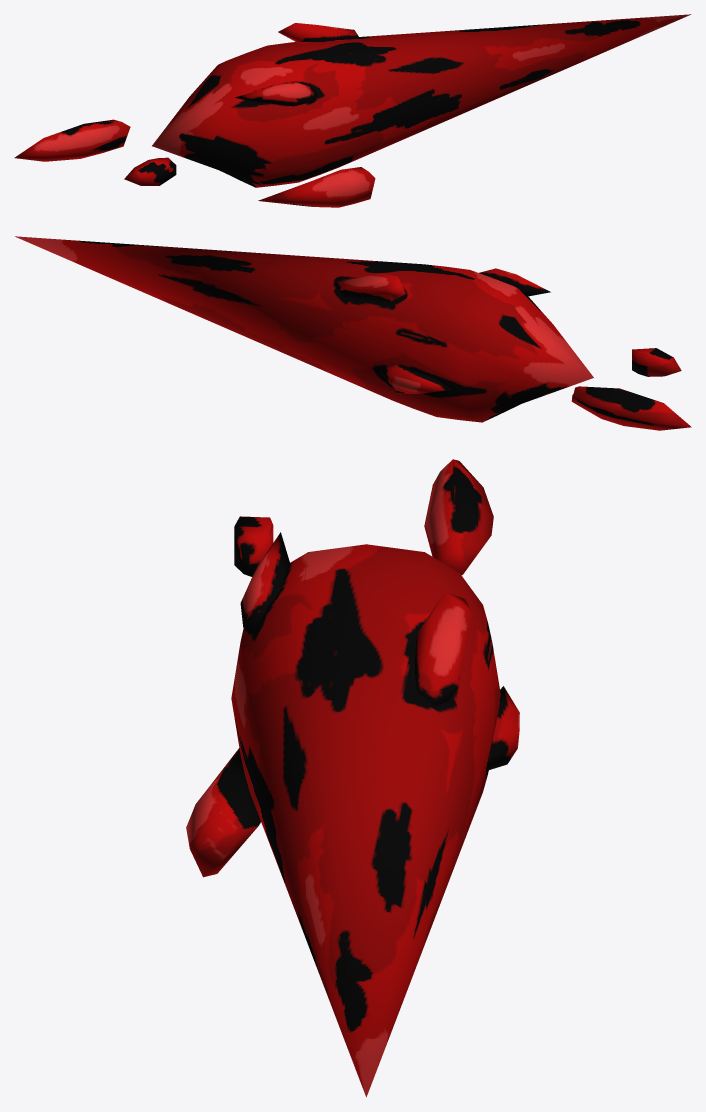
File: BloodSpear.fbx
3 views of the same model, one above another, from view 1: azimuth 30°, elevation 25°; view 2: azimuth 150°, elevation 25°; view 3: azimuth 270°, elevation 25° (orthographic). The views are drawn at different scales.
Visible parts, largest first — view 1: Cube; view 2: Cube; view 3: Cube.
Part boxes in pixels (<box>): Cube: <box>14,14,691,207</box>; Cube: <box>15,236,691,430</box>; Cube: <box>186,459,519,1097</box>.
Size of the model in its own units: 515 by 106 by 114.
1 material, 1 textured.
